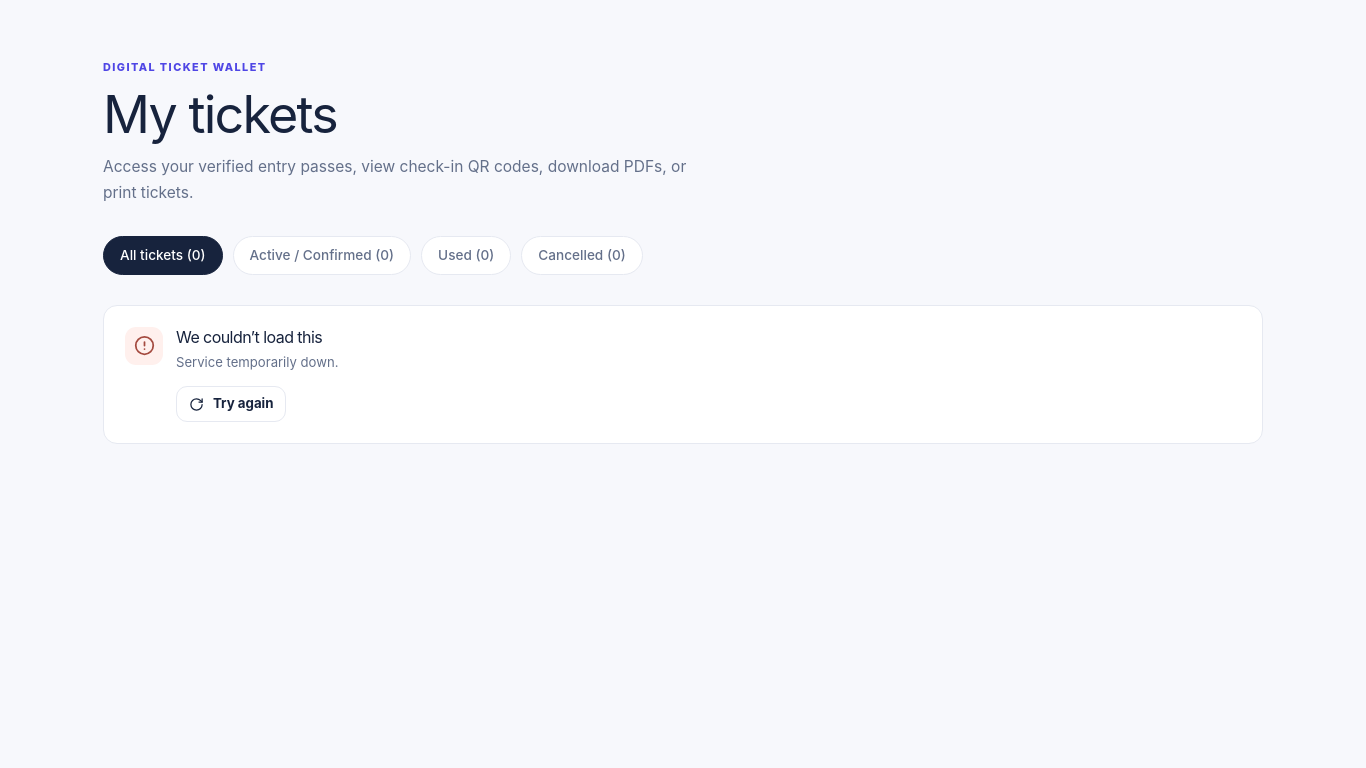
Test: Phase 2 – Customer Ticket Wallet UI › handles API error state and retries
Expected: the message shows "Service temporarily down.", [176,354,338,370]
Click the button "Try again".
click(231, 404)  # box [176,386,286,422]
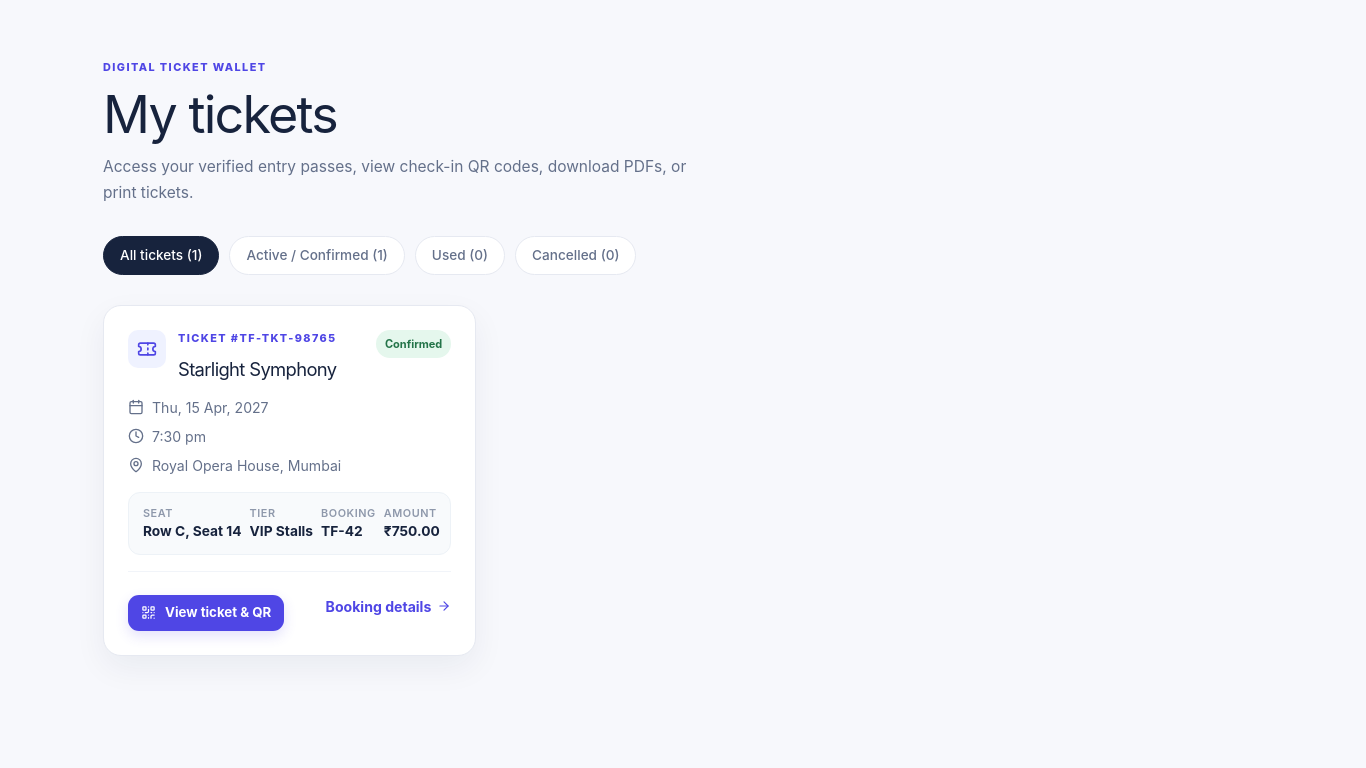
Now the heading "Starlight Symphony" is shown, box [178,358,336,381]
